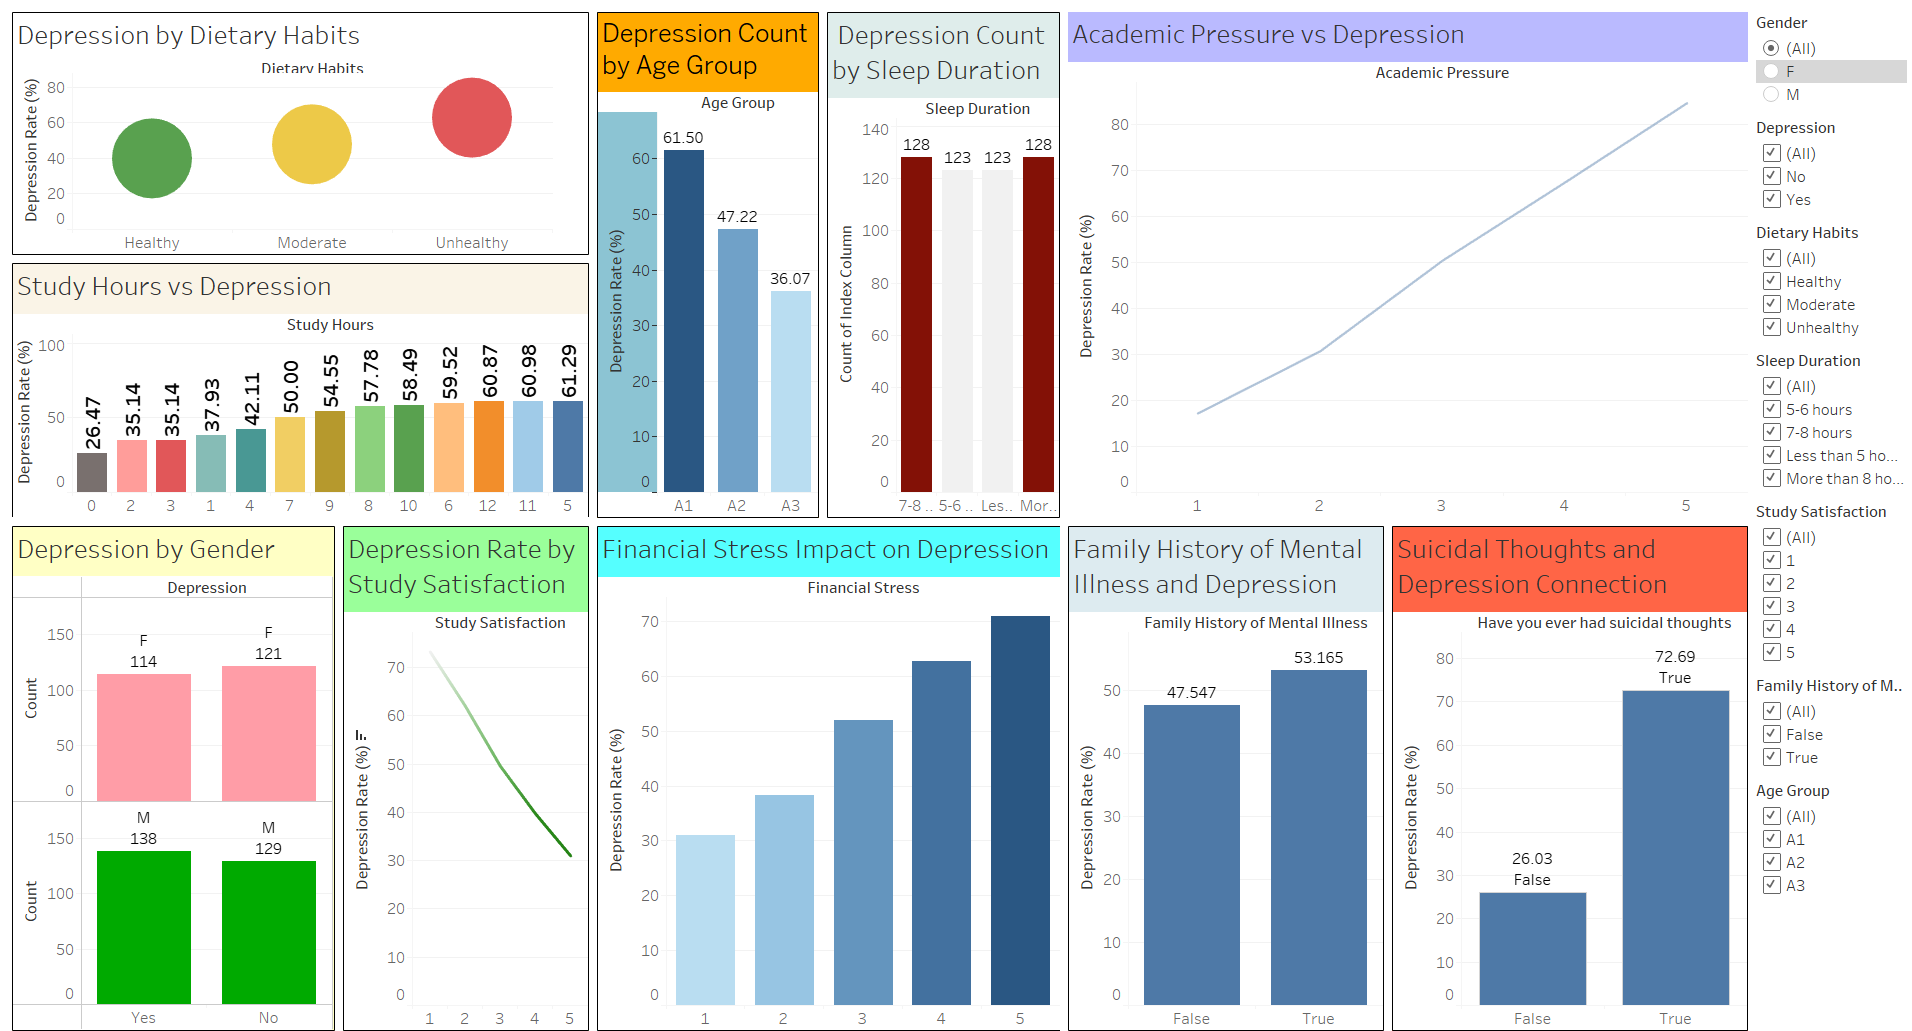

Layout of this report page (visuals, bound fields, positions):
{"tool":"tableau","page":{"name":"Depression Analytics","canvas":[1000,1000],"units":"permille","ordinal":0},"visuals":[{"type":"worksheet","title":"Depression by Dietary Habits","mark":"Pie","rows":["Calculation_1186698562259746816"],"cols":["Dietary_Habits"],"box":[4.8,9.4,287.2,245.3]},{"type":"worksheet","title":"Depression by Age Group","mark":"Bar","rows":["Calculation_1186698562259746816"],"cols":["Age_Group"],"box":[292.1,9.4,110.5,491.2]},{"type":"worksheet","title":" Depression Count by Sleep Duration","mark":"Bar","rows":["Index_Column"],"cols":["Sleep_Duration"],"box":[402.5,9.4,143.6,491.2]},{"type":"worksheet","title":"Academic Pressure vs Depression","mark":"Line","rows":["Calculation_1186698562259746816"],"cols":["Academic_Pressure"],"box":[546.2,9.4,352.4,490.6]},{"type":"filter","title":" Depression Count by Sleep Duration","param":"[federated.1syg3770oop1c41gr0bsx1w1q5j4].[none:Gender:nk]","box":[898.6,9.4,96.6,123.4]},{"type":"filter","title":" Depression Count by Sleep Duration","param":"[federated.1syg3770oop1c41gr0bsx1w1q5j4].[none:Depression:nk]","box":[898.6,132.8,96.6,123.4]},{"type":"worksheet","title":"Study Hours vs Depression","mark":"Automatic","rows":["Calculation_1186698562259746816"],"cols":["Study_Hours"],"box":[4.8,254.7,287.2,245.3]},{"type":"filter","title":"Depression by Dietary Habits","param":"[federated.1syg3770oop1c41gr0bsx1w1q5j4].[none:Dietary_Habits:nk]","box":[898.6,256.2,96.6,150.4]},{"type":"filter","title":" Depression Count by Sleep Duration","param":"[federated.1syg3770oop1c41gr0bsx1w1q5j4].[none:Sleep_Duration:nk]","box":[898.6,406.6,96.6,155.1]},{"type":"worksheet","title":"Depression by Gender","mark":"Bar","rows":["Gender","Index_Column"],"cols":["Depression"],"box":[4.8,500,169.6,490.6]},{"type":"worksheet","title":"Depression Rate by Study Satisfaction","mark":"Line","rows":["Calculation_1186698562259746816"],"cols":["Study_Satisfaction"],"box":[174.4,500,117.7,490.6]},{"type":"worksheet","title":"Family History of Mental Illness and Depression","mark":"Bar","rows":["Calculation_1186698562259746816"],"cols":["Family_History_of_Mental_Illness"],"box":[546.2,500,166.2,490.6]},{"type":"worksheet","title":"Suicidal Thoughts and Depression Connection","mark":"Automatic","rows":["Calculation_1186698562259746816"],"cols":["Have_you_ever_had_suicidal_thoughts"],"box":[712.4,500,186.2,490.6]},{"type":"worksheet","title":"Financial Stress Impact on Depression","mark":"Bar","rows":["Calculation_1186698562259746816"],"cols":["Financial_Stress"],"box":[292.1,500.6,254.1,490]},{"type":"filter","title":"Depression Rate by Study Satisfaction","param":"[federated.1syg3770oop1c41gr0bsx1w1q5j4].[none:Study_Satisfaction:ok]","box":[898.6,561.7,96.6,155.1]},{"type":"filter","title":"Family History of Mental Illness and Depression","param":"[federated.1syg3770oop1c41gr0bsx1w1q5j4].[none:Family_History_of_Mental_Illness:","box":[898.6,716.8,96.6,123.4]},{"type":"filter","title":"Depression by Age Group","param":"[federated.1syg3770oop1c41gr0bsx1w1q5j4].[none:Age_Group:nk]","box":[898.6,840.2,96.6,150.4]}]}

Visuals, with their boxes on the dashboard's canvas, which has no fixed pixel size, in thousandths of its width and height (x1, y1, x2, y2). These are canvas units, not pixel positions in the 1912x1031 screenshot, which may show the page scaled, cropped or inside an application window:
"Depression by Dietary Habits" worksheet (Pie marks): 5 9 292 255
"Depression by Age Group" worksheet (Bar marks): 292 9 403 501
" Depression Count by Sleep Duration" worksheet (Bar marks): 402 9 546 501
"Academic Pressure vs Depression" worksheet (Line marks): 546 9 899 500
" Depression Count by Sleep Duration" filter: 899 9 995 133
" Depression Count by Sleep Duration" filter: 899 133 995 256
"Study Hours vs Depression" worksheet: 5 255 292 500
"Depression by Dietary Habits" filter: 899 256 995 407
" Depression Count by Sleep Duration" filter: 899 407 995 562
"Depression by Gender" worksheet (Bar marks): 5 500 174 991
"Depression Rate by Study Satisfaction" worksheet (Line marks): 174 500 292 991
"Family History of Mental Illness and Depression" worksheet (Bar marks): 546 500 712 991
"Suicidal Thoughts and Depression Connection" worksheet: 712 500 899 991
"Financial Stress Impact on Depression" worksheet (Bar marks): 292 501 546 991
"Depression Rate by Study Satisfaction" filter: 899 562 995 717
"Family History of Mental Illness and Depression" filter: 899 717 995 840
"Depression by Age Group" filter: 899 840 995 991
